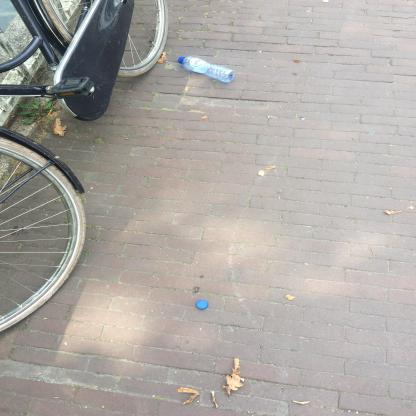plastik: (178, 56, 236, 83), (196, 300, 209, 310)
